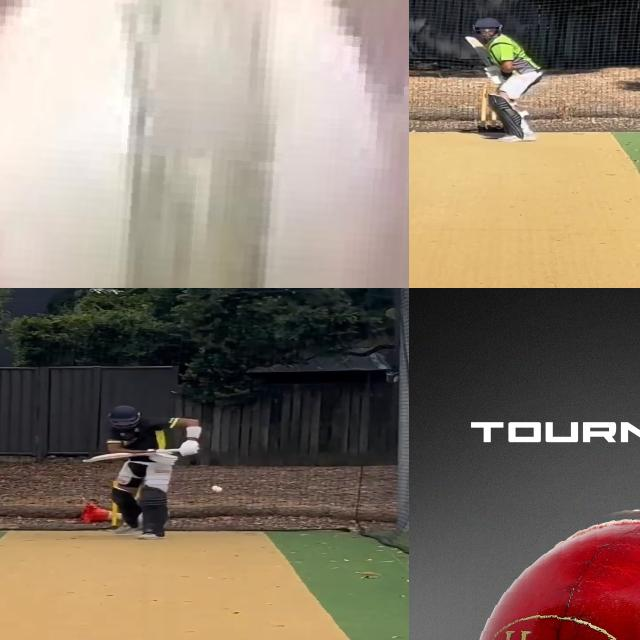Cricket ball: (0, 0, 409, 288), (471, 501, 640, 640), (208, 484, 224, 493)
